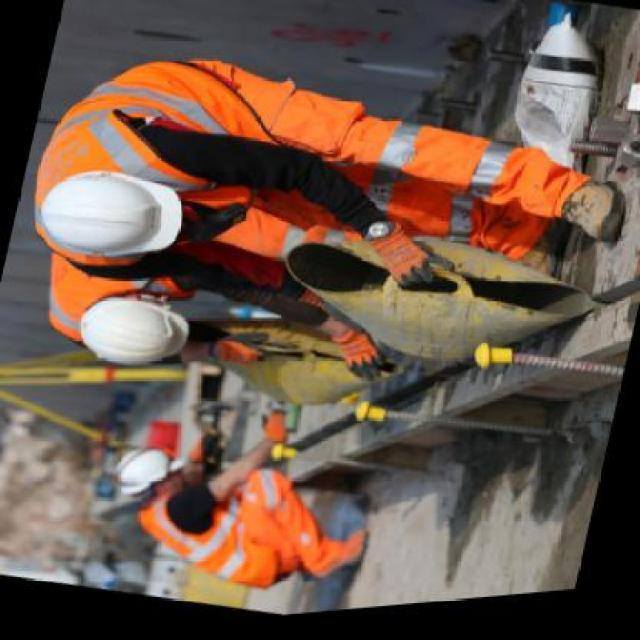helmet: (35, 154, 197, 276), (71, 281, 200, 379)
vest: (49, 31, 409, 233), (139, 482, 305, 596)
